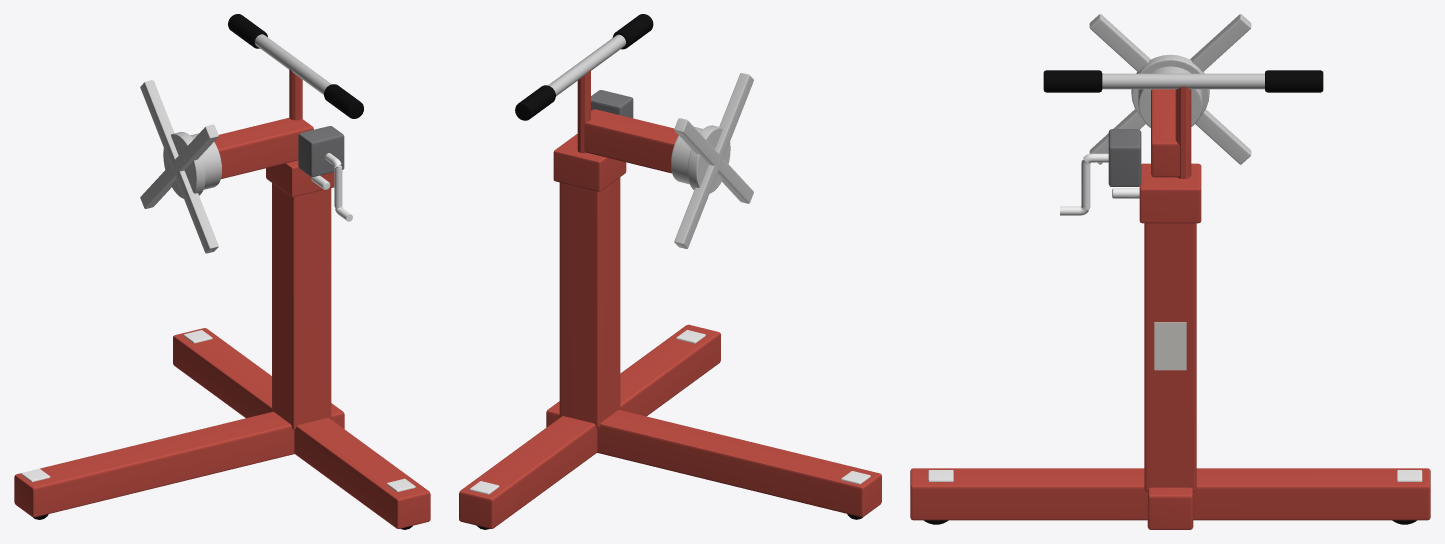
The model's file is industrial.workshop.engine_stand.glb.
3 views of the same model, side by side, from view 1: azimuth 30°, elevation 25°; view 2: azimuth 150°, elevation 25°; view 3: azimuth 270°, elevation 25° (orthographic). The views are drawn at different scales.
Parts seen in each view (by area): view 1: main__paint_c44, main__galv_ccc, main__galv_777, main__chrome_eee, main__rubber; view 2: main__paint_c44, main__galv_ccc, main__rubber, main__galv_777, main__chrome_eee; view 3: main__paint_c44, main__galv_ccc, main__rubber, main__galv_777, main__chrome_eee, main__paint_eee.
Part boxes in pixels (x1=…): main__paint_c44: x1=14, y1=69, x2=430, y2=528; main__galv_ccc: x1=140, y1=34, x2=331, y2=253; main__galv_777: x1=298, y1=126, x2=344, y2=176; main__chrome_eee: x1=21, y1=153, x2=415, y2=491; main__rubber: x1=33, y1=14, x2=412, y2=529; main__paint_c44: x1=459, y1=70, x2=881, y2=528; main__galv_ccc: x1=548, y1=34, x2=753, y2=248; main__rubber: x1=477, y1=14, x2=862, y2=529; main__galv_777: x1=591, y1=90, x2=633, y2=118; main__chrome_eee: x1=470, y1=330, x2=870, y2=494; main__paint_c44: x1=910, y1=86, x2=1430, y2=529; main__galv_ccc: x1=1089, y1=14, x2=1264, y2=164; main__rubber: x1=924, y1=70, x2=1416, y2=524; main__galv_777: x1=1108, y1=129, x2=1141, y2=186; main__chrome_eee: x1=928, y1=153, x2=1422, y2=481; main__paint_eee: x1=1154, y1=322, x2=1186, y2=370.
Bounding box in the file's own units: 0.64 × 0.767 × 0.8.
